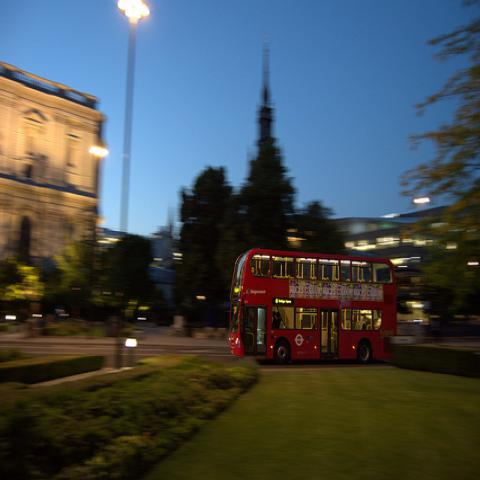bus: (230, 247, 396, 366)
